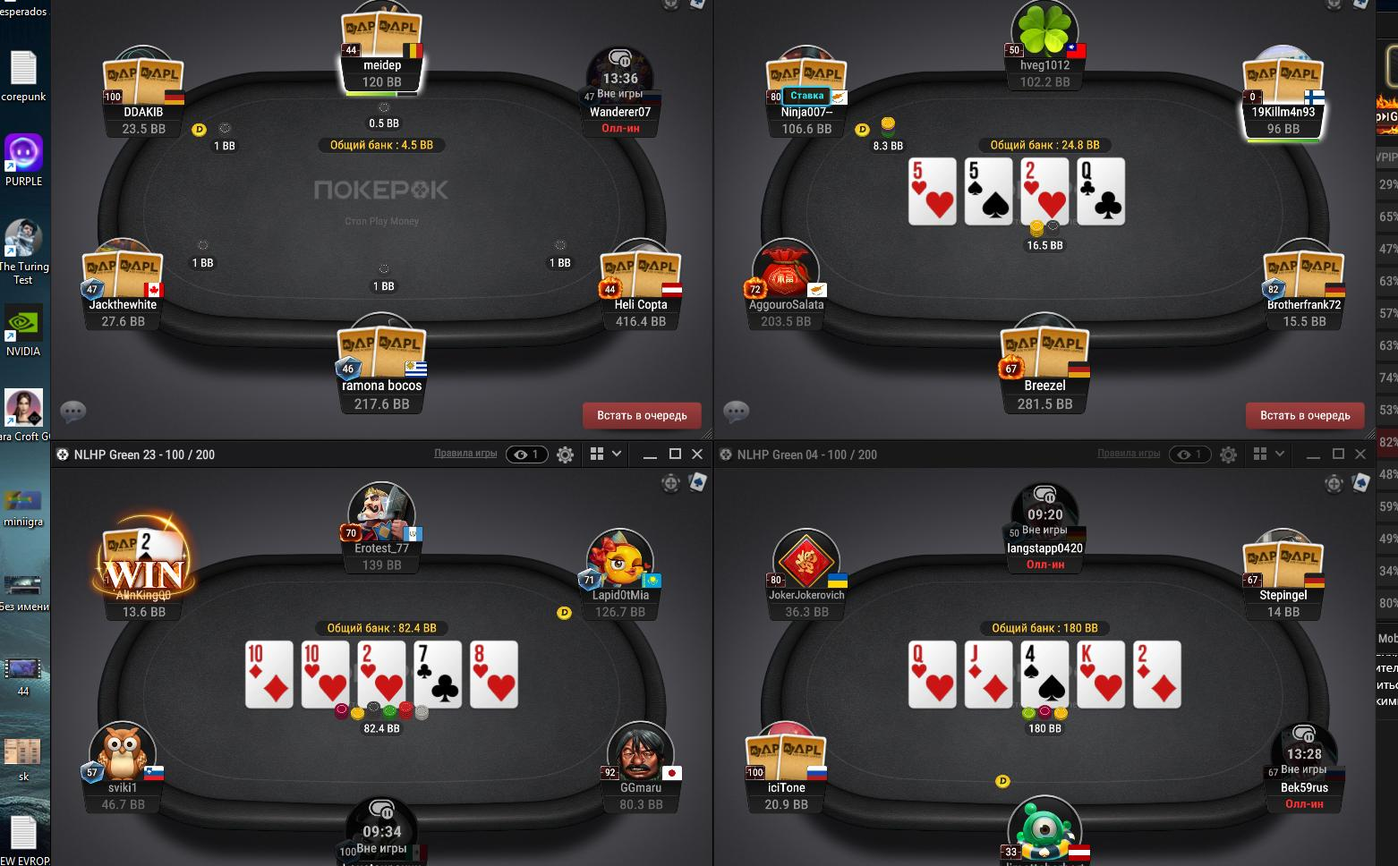10d: (247, 641, 294, 706)
10h: (302, 642, 349, 709)
2d: (1134, 642, 1180, 707)
2h: (1021, 157, 1068, 226), (359, 641, 406, 709)
4s: (1020, 641, 1068, 709)
5h: (906, 158, 960, 227)
5s: (964, 157, 1012, 224)
7c: (414, 640, 461, 707)
8h: (471, 642, 519, 709)
Jd: (963, 641, 1014, 709)
Kh: (1078, 640, 1128, 707)
Qc: (1075, 159, 1127, 225)
Qh: (911, 643, 957, 707)
